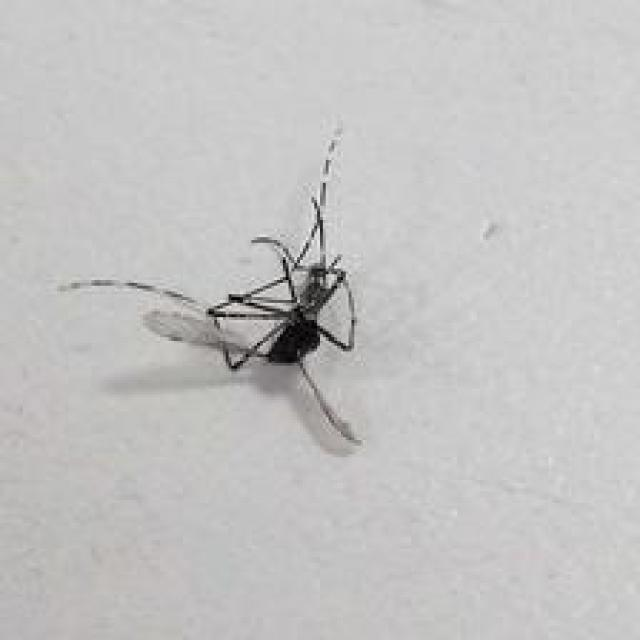Aedes albopictus: (57, 121, 366, 450)
